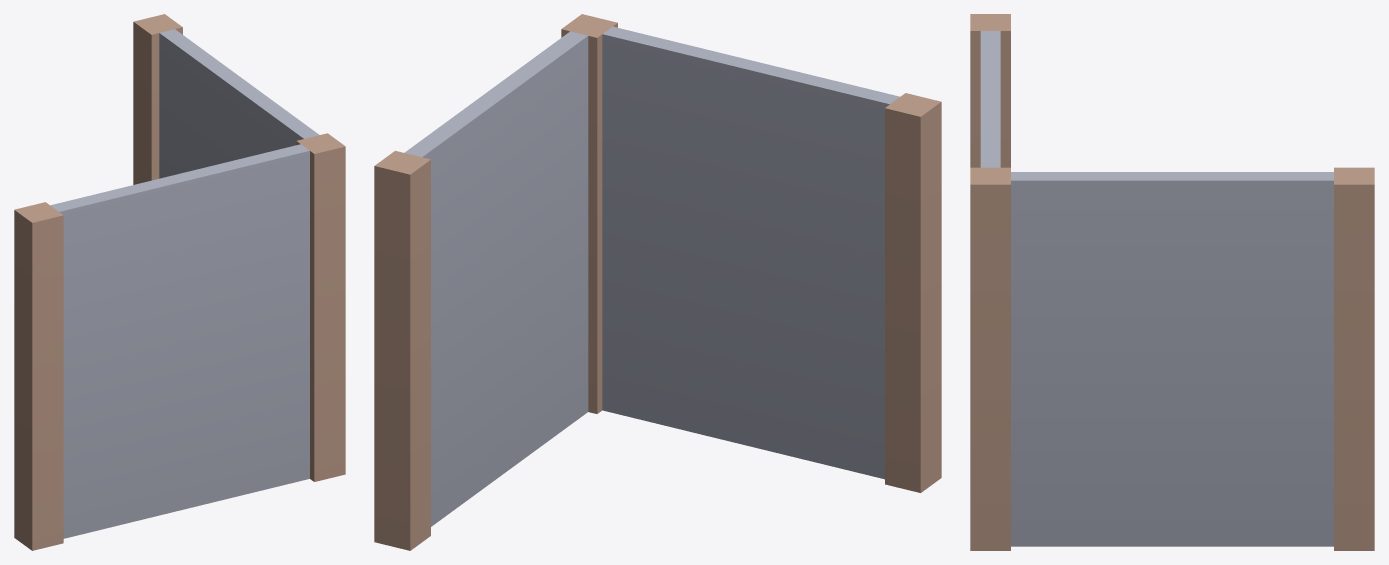
Rendered from wall-corner.glb.
3 renders of one model, left to right at view 1: azimuth 30°, elevation 25°; view 2: azimuth 150°, elevation 25°; view 3: azimuth 270°, elevation 25°, orthographic. The views are drawn at different scales.
Visible parts, largest first — view 1: wall-corner; view 2: wall-corner; view 3: wall-corner.
Boxes of the visible parts, x1,y1,x2,y2 form: wall-corner: (14, 14, 345, 550); wall-corner: (374, 14, 941, 550); wall-corner: (970, 14, 1374, 550).
Bounding box in the file's own units: 1 × 1 × 1.
